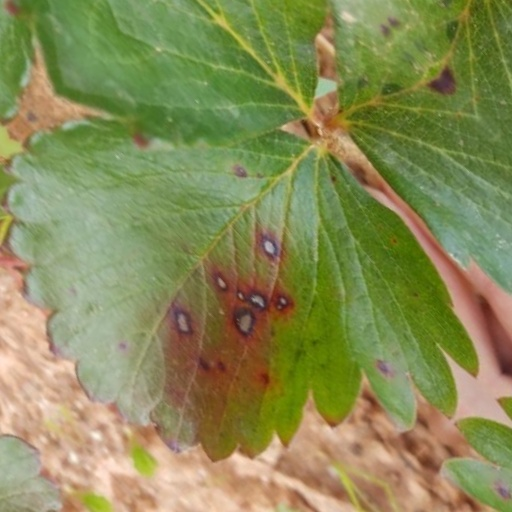Leaf Spot: (125, 1, 479, 502), (0, 318, 288, 511)
